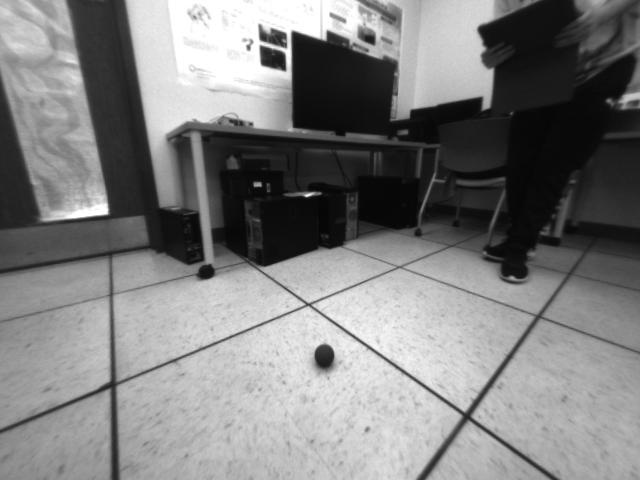dogtoy: (310, 338, 344, 375)
